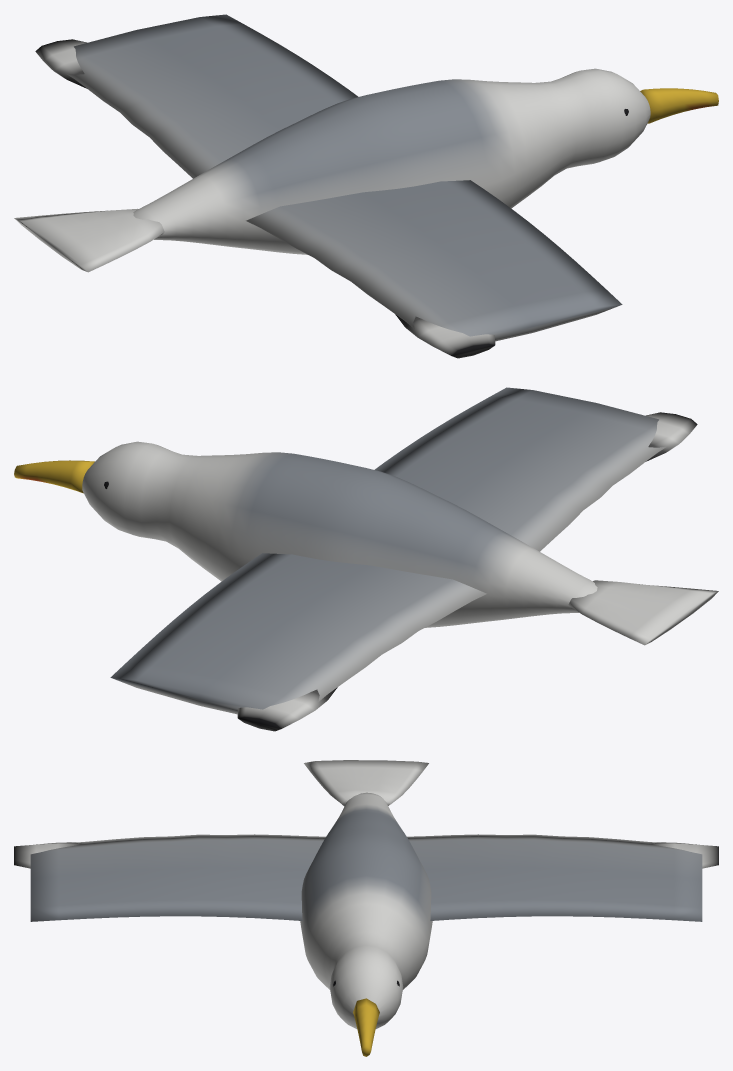
The model's file is tier_moewe.glb.
3 renders of one model, top to bottom at view 1: azimuth 30°, elevation 25°; view 2: azimuth 150°, elevation 25°; view 3: azimuth 270°, elevation 25°, orthographic. The views are drawn at different scales.
Visible parts, largest first — view 1: Rumpf, InnenR, InnenL, AussenR, AussenL; view 2: Rumpf, InnenL, InnenR, AussenL, AussenR; view 3: Rumpf, InnenR, InnenL, AussenR, AussenL.
Boxes of the visible parts, bbox=[...] form: Rumpf: bbox=[14, 68, 718, 272]; InnenR: bbox=[246, 180, 622, 341]; InnenL: bbox=[65, 14, 358, 178]; AussenR: bbox=[395, 314, 495, 358]; AussenL: bbox=[35, 39, 86, 88]; Rumpf: bbox=[14, 441, 718, 645]; InnenL: bbox=[110, 553, 486, 714]; InnenR: bbox=[374, 387, 667, 551]; AussenL: bbox=[237, 687, 337, 731]; AussenR: bbox=[646, 412, 697, 461]; Rumpf: bbox=[300, 760, 432, 1056]; InnenR: bbox=[30, 834, 325, 921]; InnenL: bbox=[407, 834, 702, 921]; AussenR: bbox=[14, 842, 85, 868]; AussenL: bbox=[647, 842, 718, 868].
Size of the model in its own units: 0.775 by 0.1639 by 0.84.
